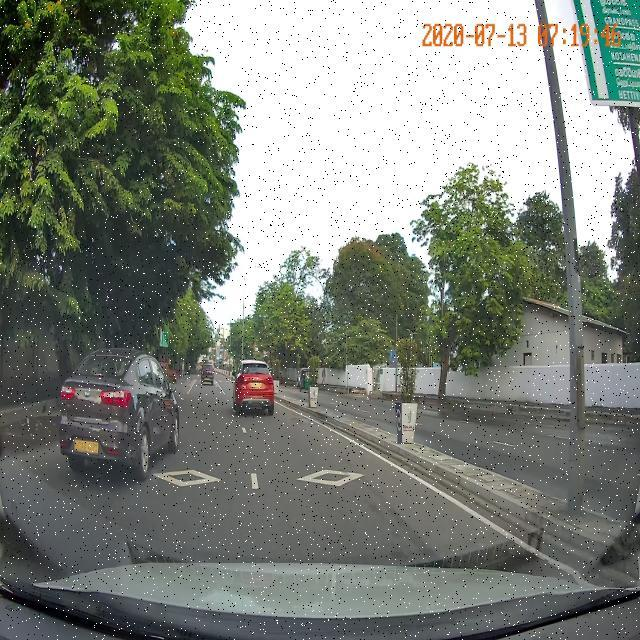diamond: (248, 447, 463, 505)
